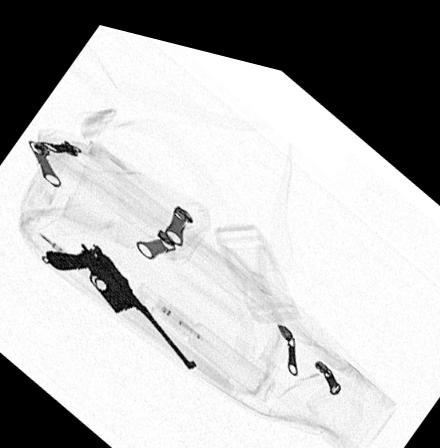Gun: (44, 239, 196, 360)
